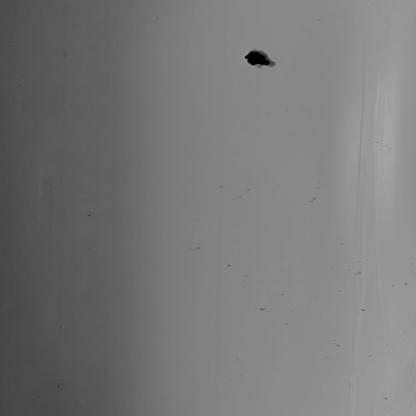kongdong: (231, 37, 294, 77)
